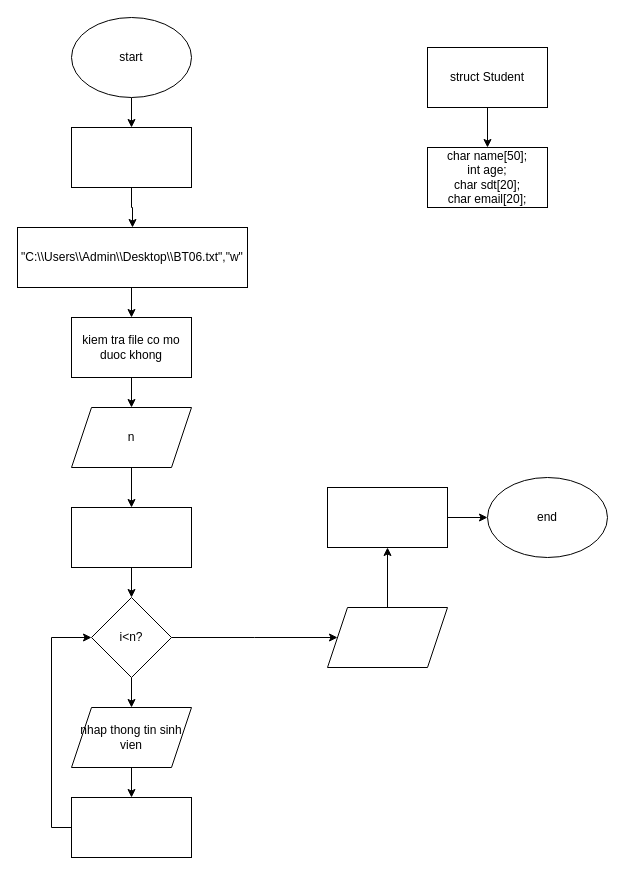
The diagram is 625 pixels wide and 875 high, and some of its shapes have lost their labels. The shapes that lost their labels are listed below. From the top down, each one's centre as x and y in pixels, then its label:
At point 131,157: "FILE *f = NULL; int n;".
At point 131,537: "struct Student id[n]".
At point 387,517: "fclose".
At point 387,637: "in ra thong tin sinh vien".
At point 131,827: "i++".
